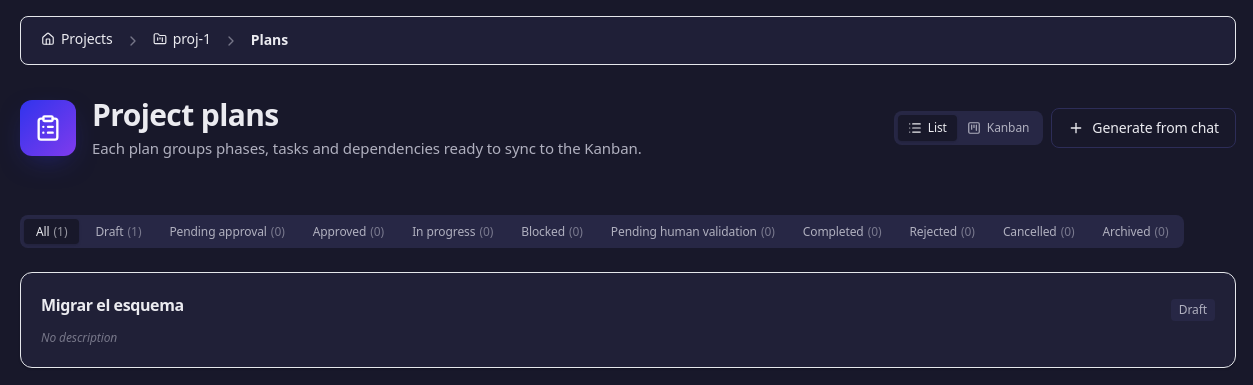
Test case: listado de planes en los dos idiomas › traduce el estado vacío del filtro y la fila sin descripción
Check: the list with test id "plans-list" is shown, box [20,272,1236,368]
Check: the text with test id "plan-row-plan-1-badge" reads "Draft", box [1179,301,1207,318]
Click the tab with test id "plans-filter-completed". click: [842, 232]
box: [791,219,894,244]
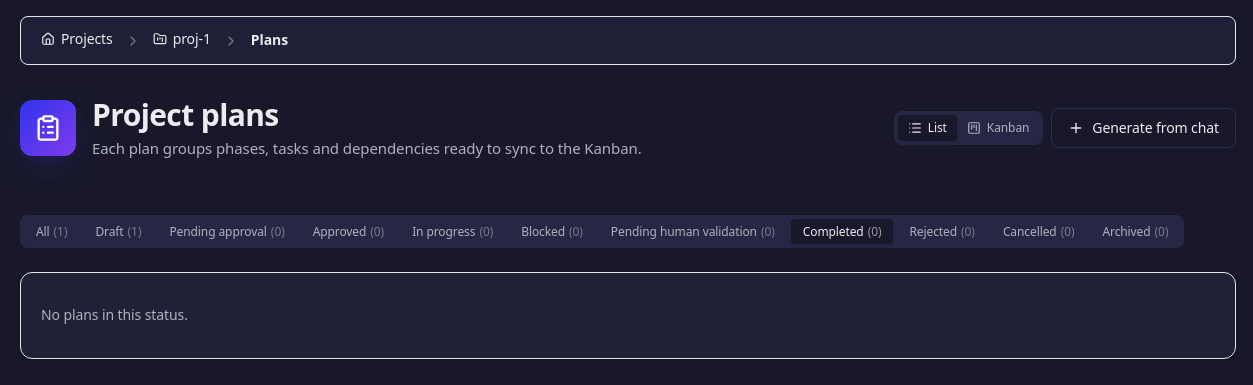
Check: the text with test id "plans-empty" reads "No plans in this status.", box [41,305,188,324]
